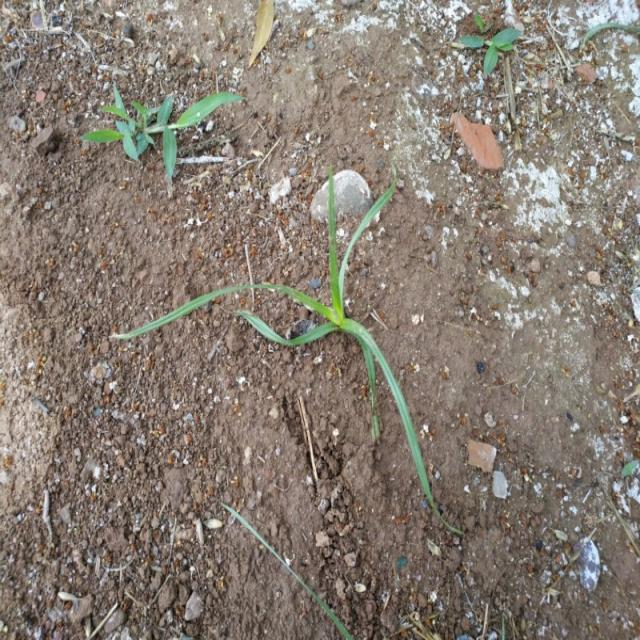sedge: (131, 146, 471, 509)
